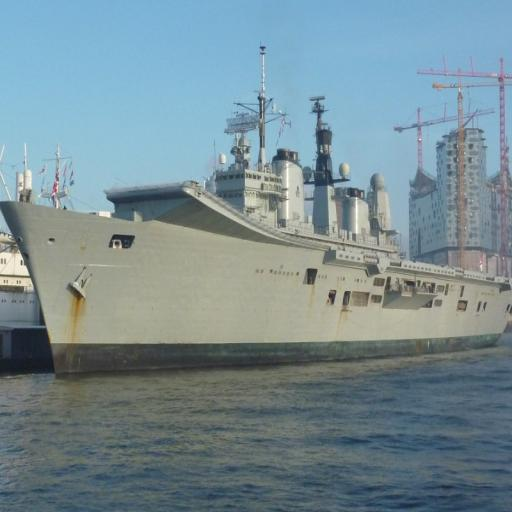Portanaves: (3, 110, 512, 385)
